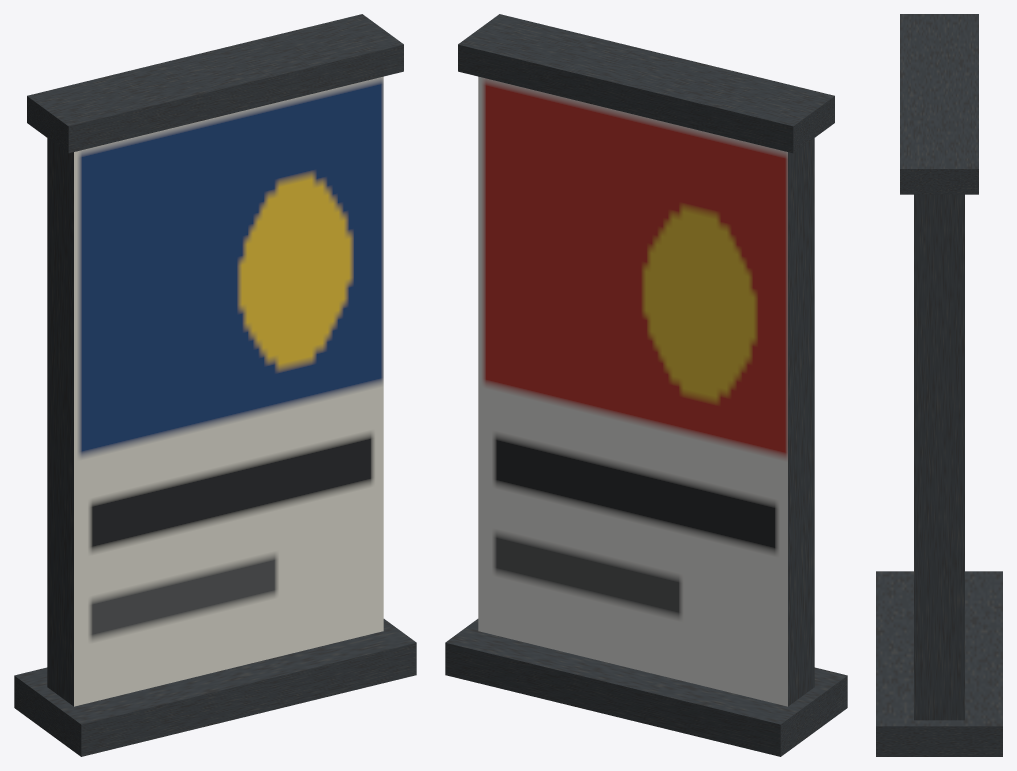
File: plakatstelle_m3.glb
3 renders of one model, left to right at view 1: azimuth 30°, elevation 25°; view 2: azimuth 150°, elevation 25°; view 3: azimuth 270°, elevation 25°, orthographic. The views are drawn at different scales.
Visible parts, largest first — view 1: M3; view 2: M3; view 3: M3.
Boxes of the visible parts, x1,y1,x2,y2 form: M3: [14, 14, 416, 756]; M3: [445, 14, 847, 756]; M3: [876, 14, 1002, 756].
Bounding box in the file's own units: 1.3 × 2.3 × 0.45.
Materials: 1 (1 with a texture image).
